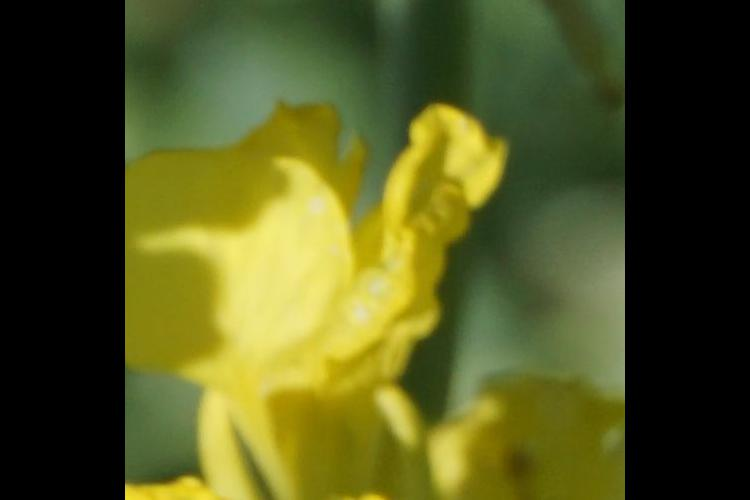yellow: (134, 82, 490, 500), (428, 366, 619, 500)
